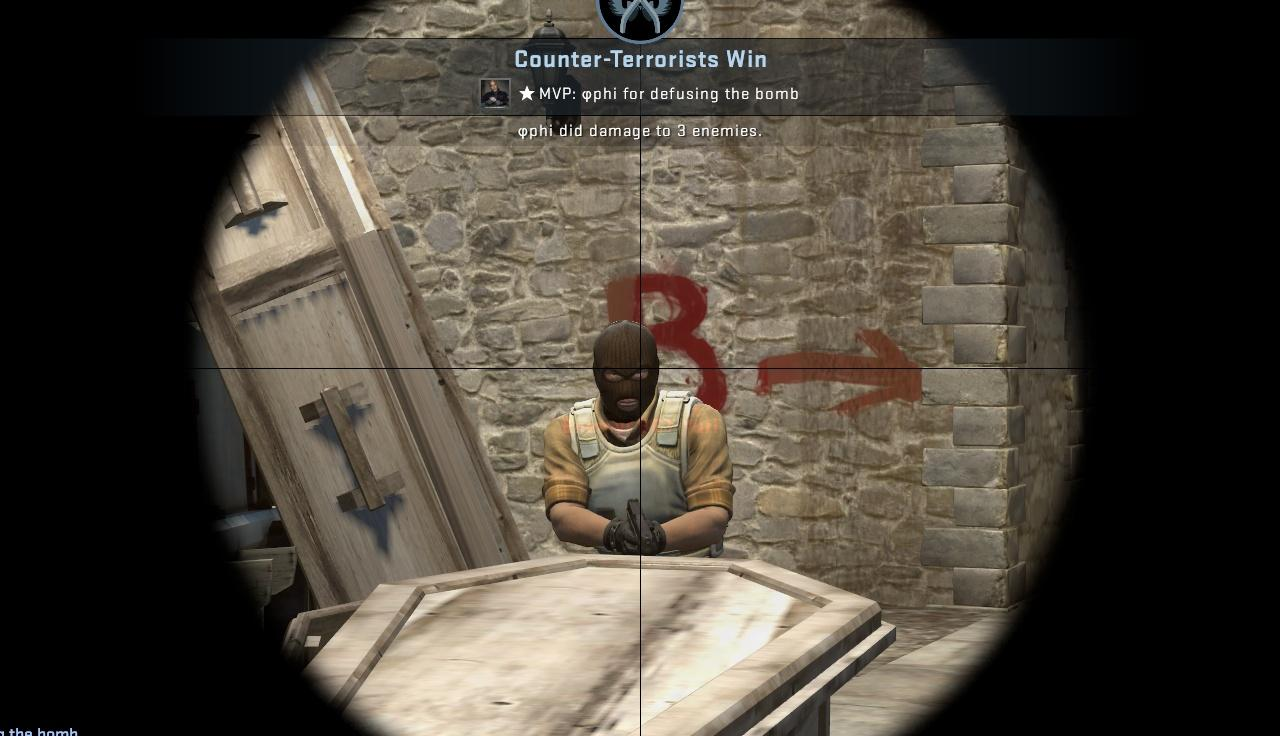tt: (554, 319, 727, 553)
tthead: (590, 322, 658, 417)
